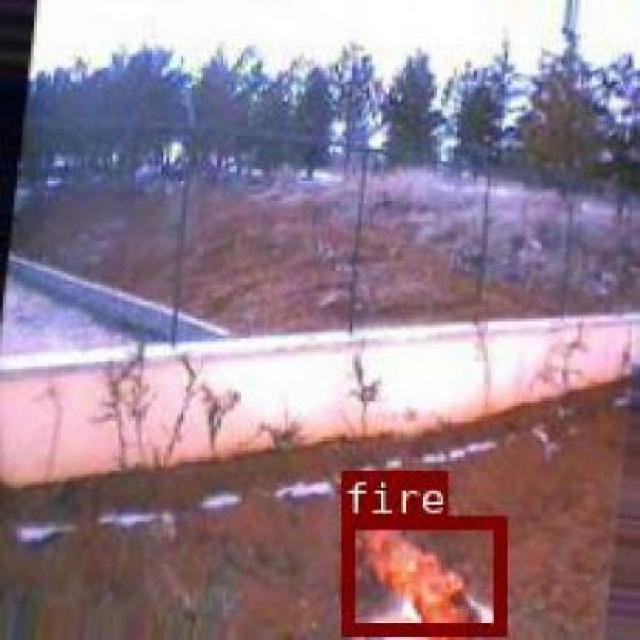Fire: (339, 516, 504, 632)
